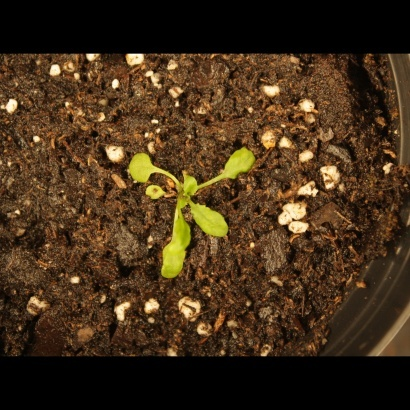leaf: (215, 140, 262, 187), (186, 198, 234, 241), (121, 150, 159, 186), (160, 239, 187, 281), (170, 213, 193, 252), (144, 182, 167, 205), (179, 174, 202, 197)
